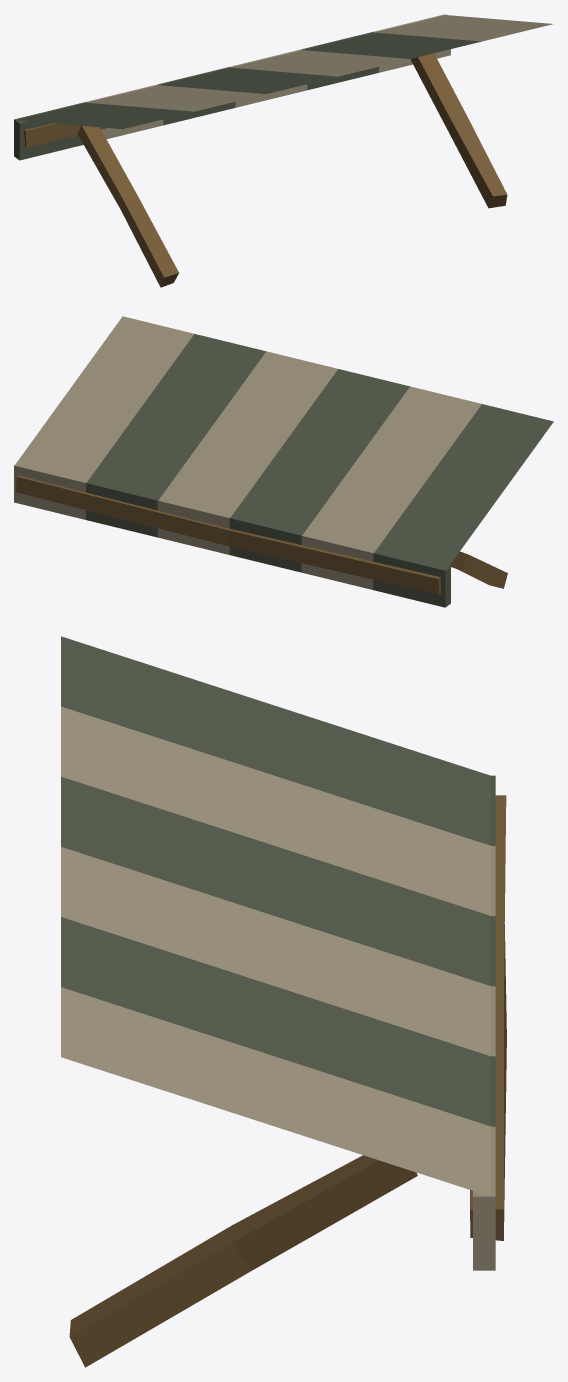
Rendered from town_Entry_moss.glb.
The picture shows the model from 3 angles, top to bottom: view 1: azimuth 30°, elevation 25°; view 2: azimuth 150°, elevation 25°; view 3: azimuth 270°, elevation 25°; orthographic projection. The views are drawn at different scales.
Parts seen in each view (by area): view 1: Repaired entry moss; view 2: Repaired entry moss; view 3: Repaired entry moss.
Boxes of the visible parts, x1=… form: Repaired entry moss: x1=14, y1=14, x2=552, y2=287; Repaired entry moss: x1=14, y1=316, x2=553, y2=607; Repaired entry moss: x1=61, y1=636, x2=506, y2=1367.
Bounding box in the file's own units: 2.2 × 0.8573 × 0.985.
